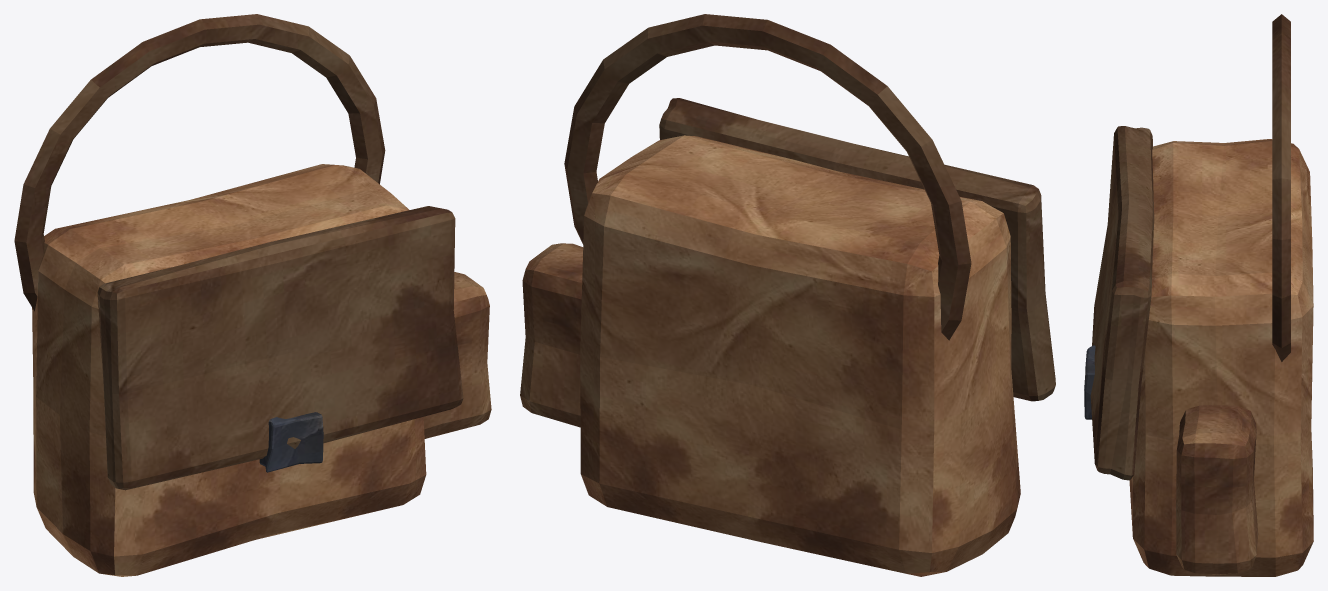
The model's file is satchel.glb.
The picture shows the model from 3 angles, left to right: view 1: azimuth 30°, elevation 25°; view 2: azimuth 150°, elevation 25°; view 3: azimuth 270°, elevation 25°; orthographic projection. The views are drawn at different scales.
Parts seen in each view (by area): view 1: model; view 2: model; view 3: model.
Part boxes in pixels (x1=…): model: x1=14, y1=14, x2=491, y2=576; model: x1=520, y1=14, x2=1055, y2=576; model: x1=1084, y1=14, x2=1313, y2=576.
Size of the model in its own units: 0.389 by 0.418 by 0.1805.
4 materials, 4 textured.
